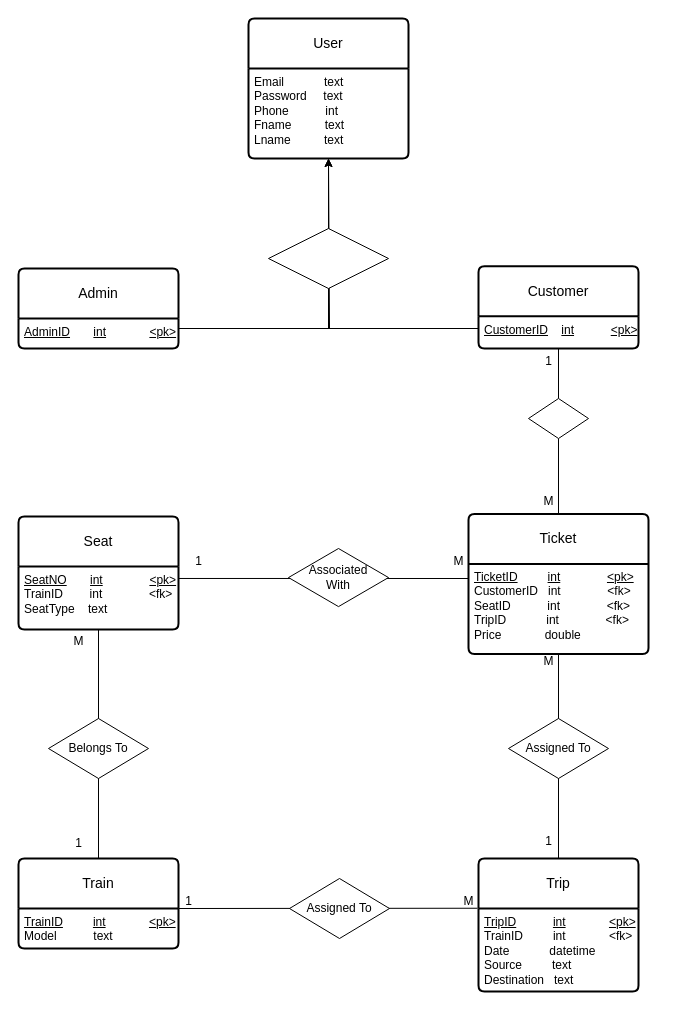
Some shapes in this 681 by 1009 pixel diagram are drawn without their labels. Each missing label, with the centre of its shape:
"Books" goes at (558,418).
"Is A" goes at (328,258).
